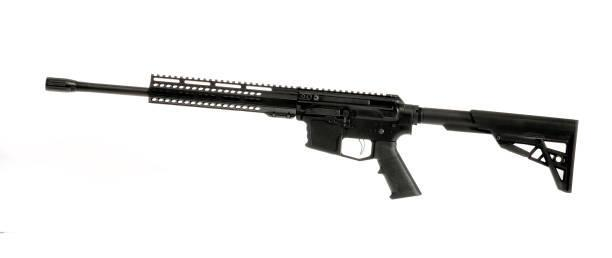larga: (45, 72, 579, 201)
